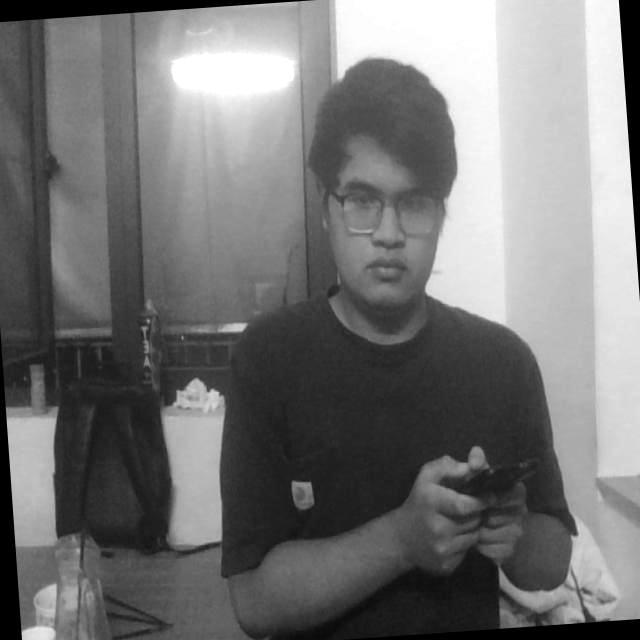phone: (430, 434, 540, 524)
